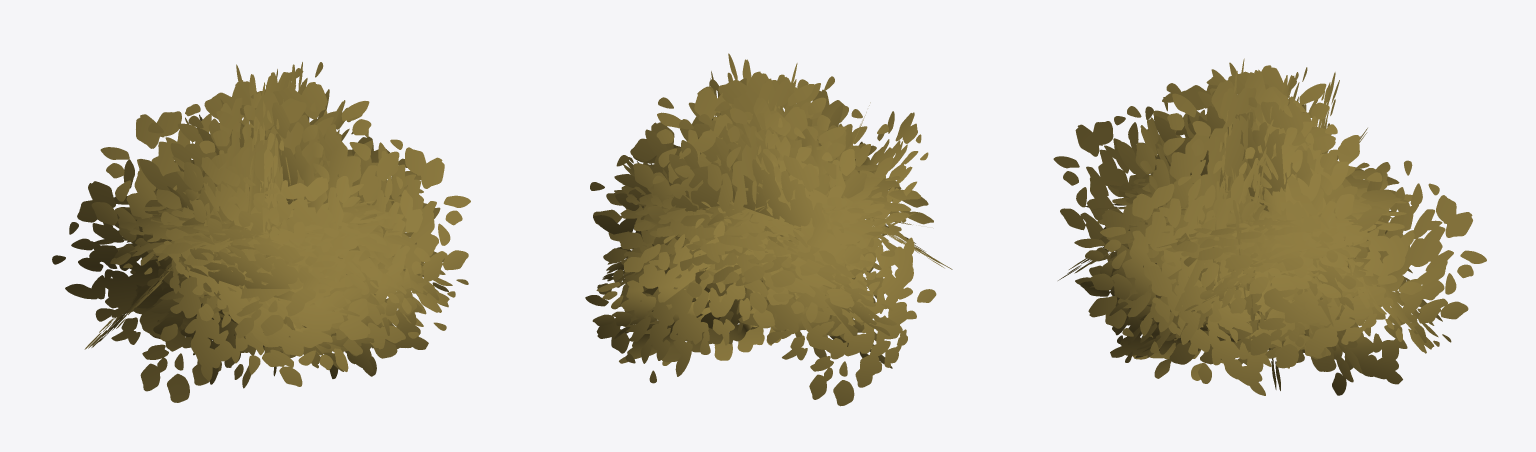
Rendered from bush.fbx.
3 renders of one model, left to right at view 1: azimuth 30°, elevation 25°; view 2: azimuth 150°, elevation 25°; view 3: azimuth 270°, elevation 25°, orthographic. The views are drawn at different scales.
Parts seen in each view (by area): view 1: bush_0; view 2: bush_0; view 3: bush_0.
Part boxes in pixels (x1,y1,x2,y2): bush_0: [52, 62, 470, 402]; bush_0: [585, 53, 952, 406]; bush_0: [1053, 58, 1486, 395].
Bounding box in the file's own units: 208 × 174 × 228.
